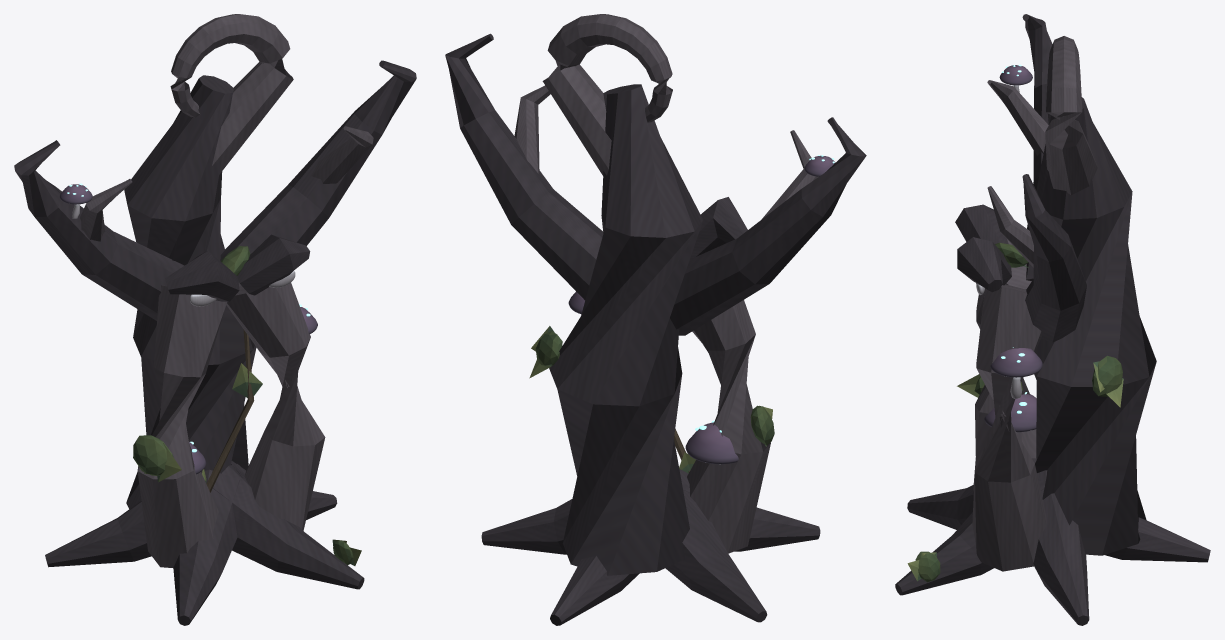
The model's file is forest_hollow_tree.glb.
3 renders of one model, left to right at view 1: azimuth 30°, elevation 25°; view 2: azimuth 150°, elevation 25°; view 3: azimuth 270°, elevation 25°, orthographic. The views are drawn at different scales.
Parts seen in each view (by area): view 1: Hollow watcher rear trunk, Hollow watcher cheek timber, Hollow watcher cheek timber.001, Crooked reaching bough, Watcher spiral crown, Crooked reaching bough.001, Splayed dreaming tree root.004, Splayed dreaming tree root.003, Splayed dreaming tree root.002, Raised wooden brow.001, Raised wooden brow, Forked reaching twig.001 (+5 smaller); view 2: Hollow watcher rear trunk, Crooked reaching bough.001, Crooked reaching bough, Hollow watcher cheek timber, Watcher spiral crown, Splayed dreaming tree root.002, Splayed dreaming tree root, Splayed dreaming tree root.001, Splayed dreaming tree root.003, Raised wooden brow, Forked reaching twig.001, Broad faceted mushroom cap (+3 smaller); view 3: Hollow watcher rear trunk, Hollow watcher cheek timber.001, Crooked reaching bough.001, Watcher spiral crown, Splayed dreaming tree root, Splayed dreaming tree root.004, Splayed dreaming tree root.001, Crooked reaching bough, Raised wooden brow.001, Hollow watcher cheek timber, Splayed dreaming tree root.003, Forked reaching twig (+8 smaller).
Part boxes in pixels (x1,y1,x2,y2): Hollow watcher rear trunk: [124, 75, 256, 508]; Hollow watcher cheek timber: [137, 285, 227, 567]; Hollow watcher cheek timber.001: [226, 283, 325, 530]; Crooked reaching bough: [14, 140, 184, 320]; Watcher spiral crown: [170, 14, 293, 174]; Crooked reaching bough.001: [220, 60, 416, 282]; Splayed dreaming tree root.004: [212, 464, 364, 589]; Splayed dreaming tree root.003: [173, 469, 239, 625]; Splayed dreaming tree root.002: [45, 501, 151, 567]; Raised wooden brow.001: [237, 234, 310, 295]; Raised wooden brow: [165, 251, 239, 301]; Forked reaching twig.001: [311, 126, 373, 183]; Hollow watcher rear trunk: [549, 84, 703, 575]; Crooked reaching bough.001: [445, 33, 603, 300]; Crooked reaching bough: [670, 117, 866, 335]; Hollow watcher cheek timber: [687, 300, 770, 553]; Watcher spiral crown: [542, 14, 672, 175]; Splayed dreaming tree root.002: [665, 472, 767, 622]; Splayed dreaming tree root: [481, 499, 572, 554]; Splayed dreaming tree root.001: [550, 556, 639, 625]; Splayed dreaming tree root.003: [679, 469, 820, 551]; Raised wooden brow: [690, 197, 747, 259]; Forked reaching twig.001: [514, 85, 550, 173]; Broad faceted mushroom cap: [685, 422, 738, 464]; Hollow watcher rear trunk: [1034, 97, 1156, 555]; Hollow watcher cheek timber.001: [972, 284, 1046, 571]; Crooked reaching bough.001: [1022, 174, 1086, 342]; Watcher spiral crown: [1045, 36, 1097, 195]; Splayed dreaming tree root: [1033, 470, 1089, 625]; Splayed dreaming tree root.004: [895, 479, 1044, 595]; Splayed dreaming tree root.001: [1105, 517, 1210, 562]; Crooked reaching bough: [1022, 14, 1052, 280]; Raised wooden brow.001: [957, 237, 1011, 292]; Hollow watcher cheek timber: [973, 239, 1036, 490]; Splayed dreaming tree root.003: [907, 458, 1036, 529]; Forked reaching twig: [987, 80, 1048, 155].
Bounding box in the file's own units: 2.43 × 3.04 × 1.65.
Materials: 10 (9 with a texture image).
